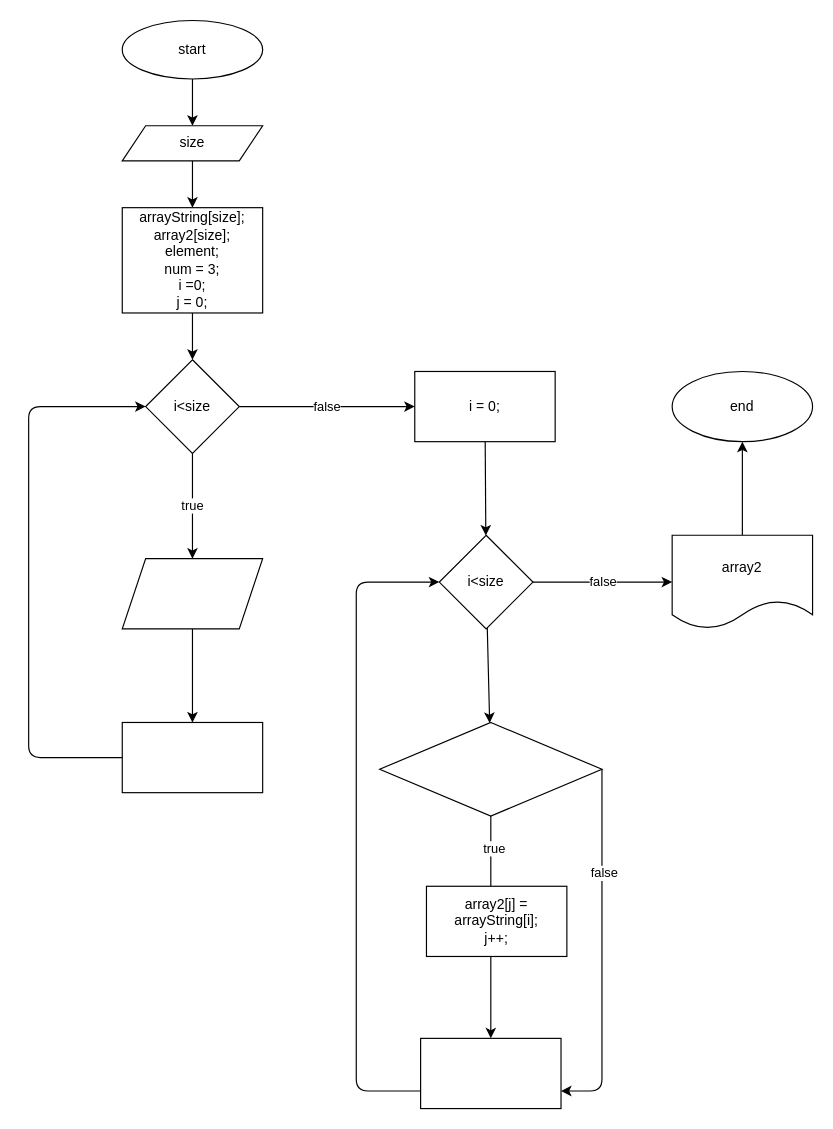
Image size: 833x1129. Some labels were removed from this diagram. The shapes that lost their labels are listed below. From the top down, each one's centre as x and y in pixels, then its label:
(x=192, y=593): element
(x=192, y=757): arrayyString[i] = element; i++;
(x=490, y=768): arrayString[i].Length <= num
(x=490, y=1073): i++;
